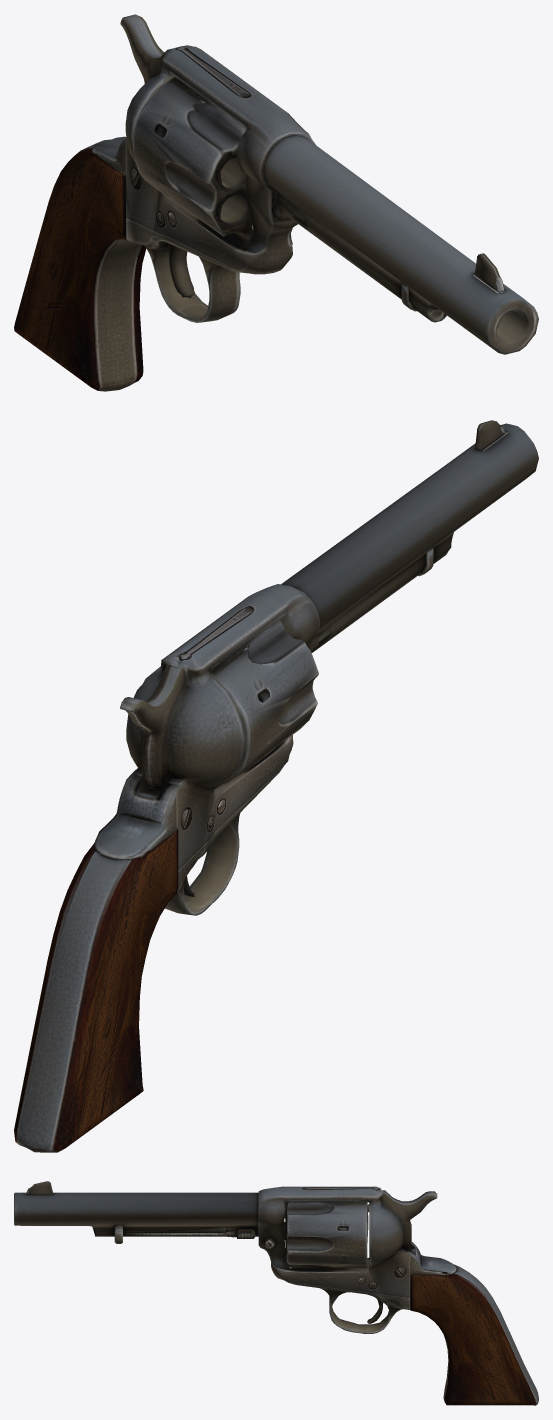
The model's file is revolver.glb.
3 views of the same model, one above another, from view 1: azimuth 30°, elevation 25°; view 2: azimuth 150°, elevation 25°; view 3: azimuth 270°, elevation 25° (orthographic). The views are drawn at different scales.
Parts seen in each view (by area): view 1: tripo_node_1d83445b-37b3-4fd5-b76b-d8b86911fa97; view 2: tripo_node_1d83445b-37b3-4fd5-b76b-d8b86911fa97; view 3: tripo_node_1d83445b-37b3-4fd5-b76b-d8b86911fa97.
Part boxes in pixels (x1=…): tripo_node_1d83445b-37b3-4fd5-b76b-d8b86911fa97: x1=14, y1=14, x2=538, y2=391; tripo_node_1d83445b-37b3-4fd5-b76b-d8b86911fa97: x1=14, y1=420, x2=538, y2=1152; tripo_node_1d83445b-37b3-4fd5-b76b-d8b86911fa97: x1=14, y1=1181, x2=538, y2=1405.
Bounding box in the file's own units: 0.1387 × 0.4629 × 0.998.
1 material, 1 textured.
